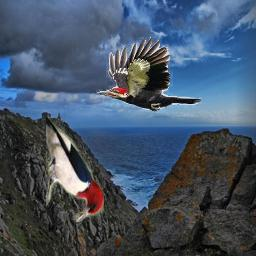Woodpecker: (96, 36, 202, 112), (46, 116, 104, 222)
